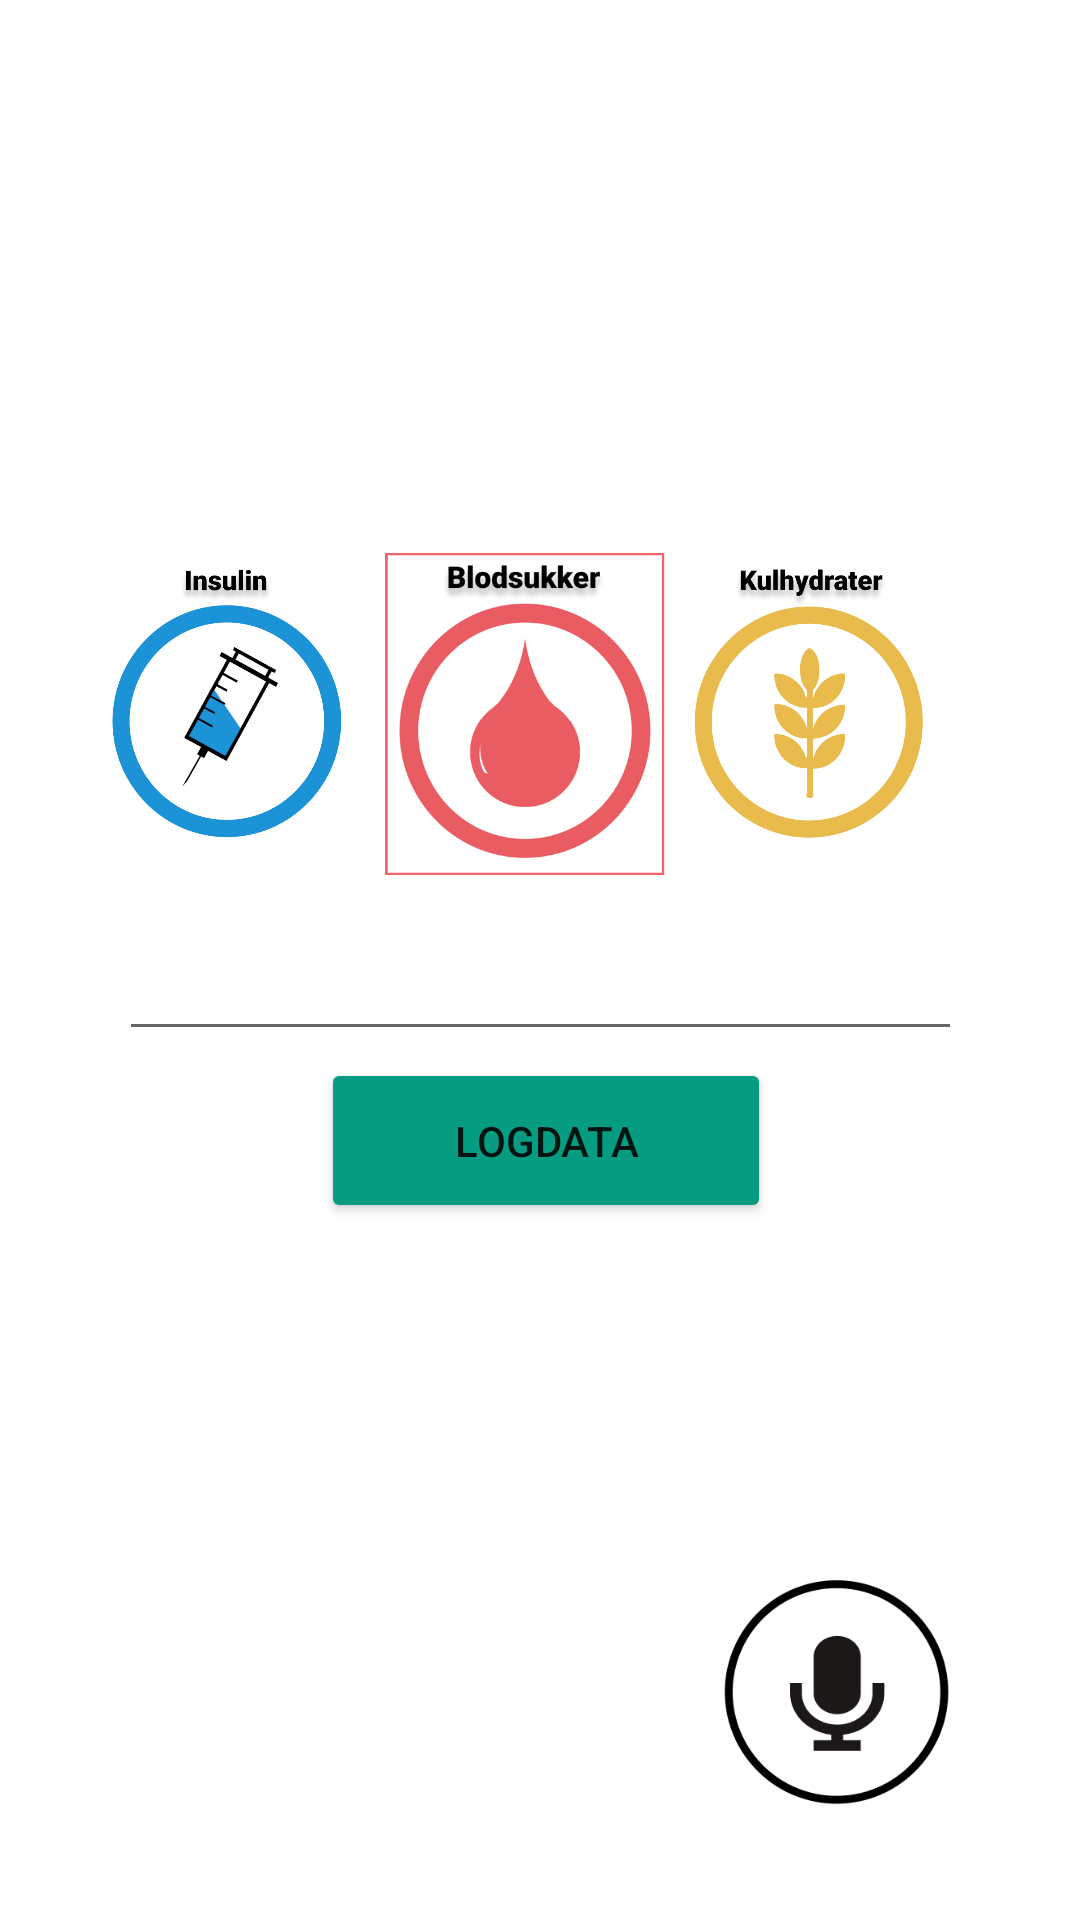

Where to tap for icons on this 1080*1920 app screen, as (x=x, y=y):
mik: (x=836, y=1692)
